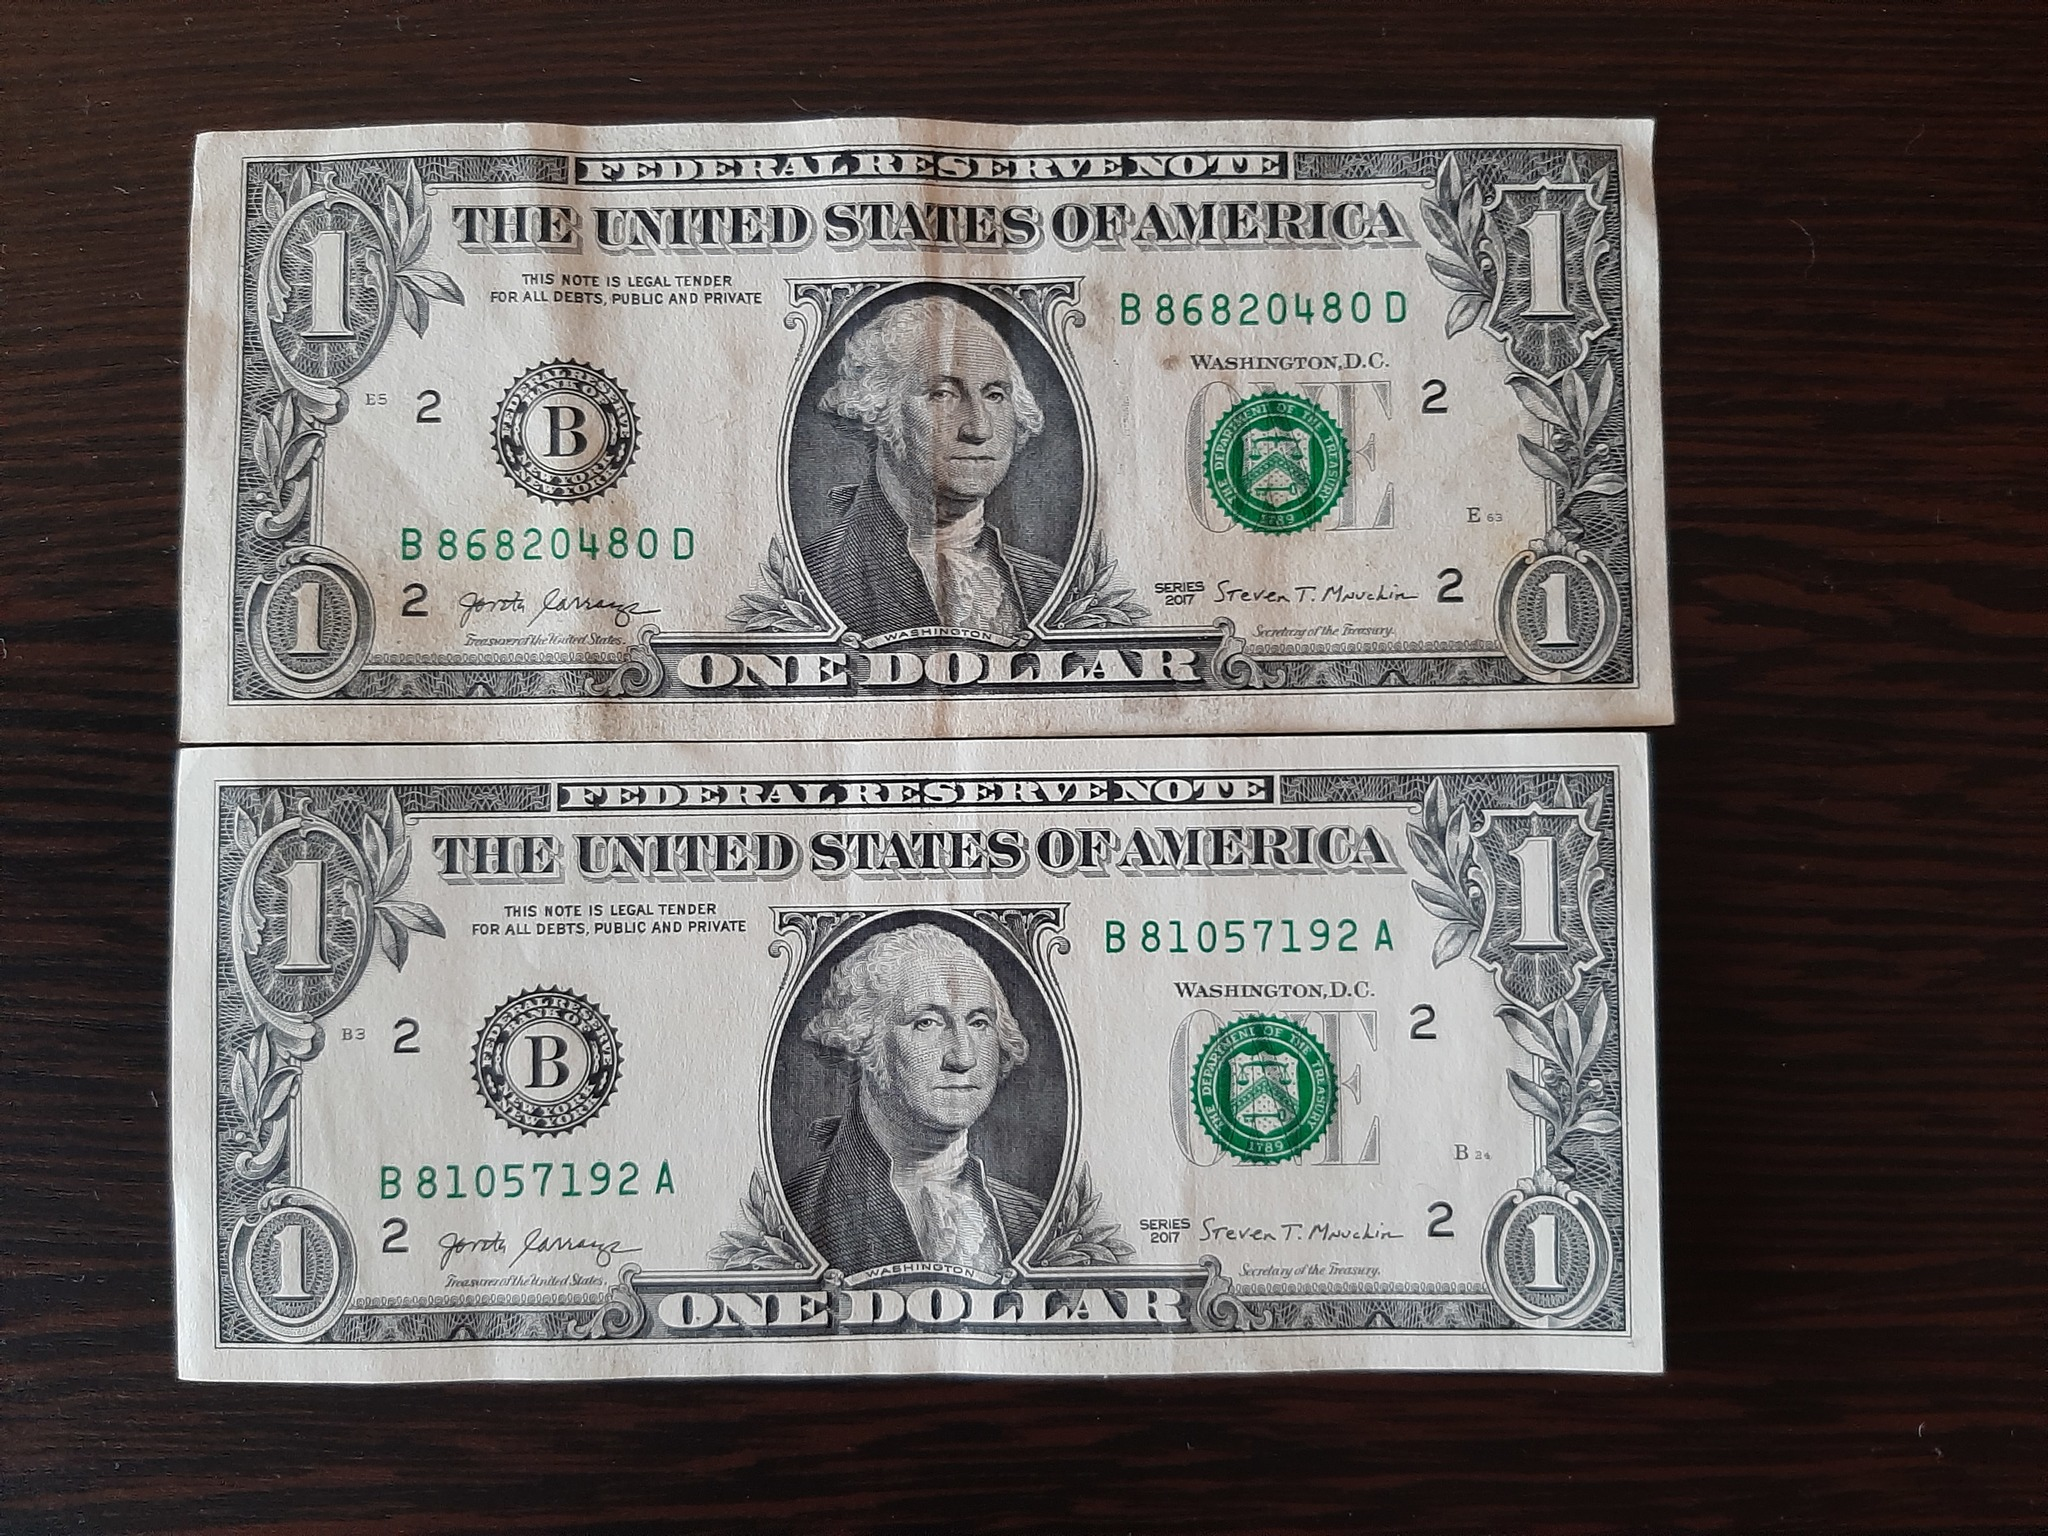cash: (173, 733, 1664, 1383), (179, 116, 1675, 744)
